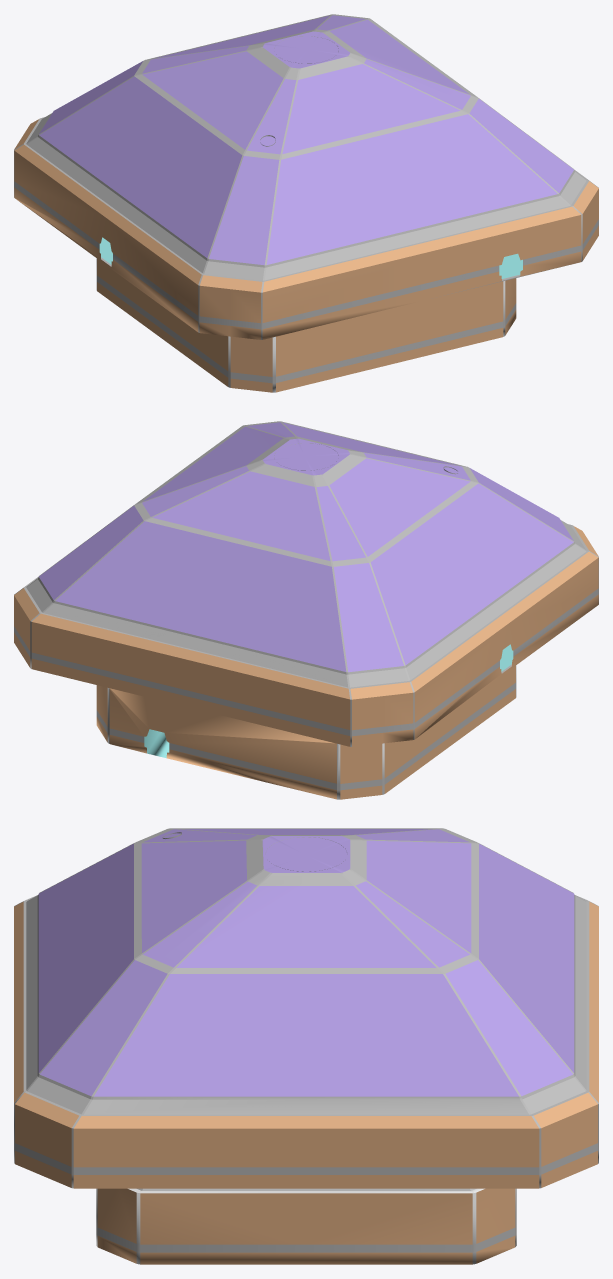
The model's file is RoomSquareForTrim02.fbx.
3 renders of one model, top to bottom at view 1: azimuth 30°, elevation 25°; view 2: azimuth 150°, elevation 25°; view 3: azimuth 270°, elevation 25°, orthographic. The views are drawn at different scales.
Parts seen in each view (by area): view 1: RoomSquare01; view 2: RoomSquare01; view 3: RoomSquare01.
Part boxes in pixels (<box>): RoomSquare01: <box>14,14,598,392</box>; RoomSquare01: <box>14,421,598,799</box>; RoomSquare01: <box>14,828,598,1264</box>.
Size of the model in its own units: 4870 by 2957 by 4870.
